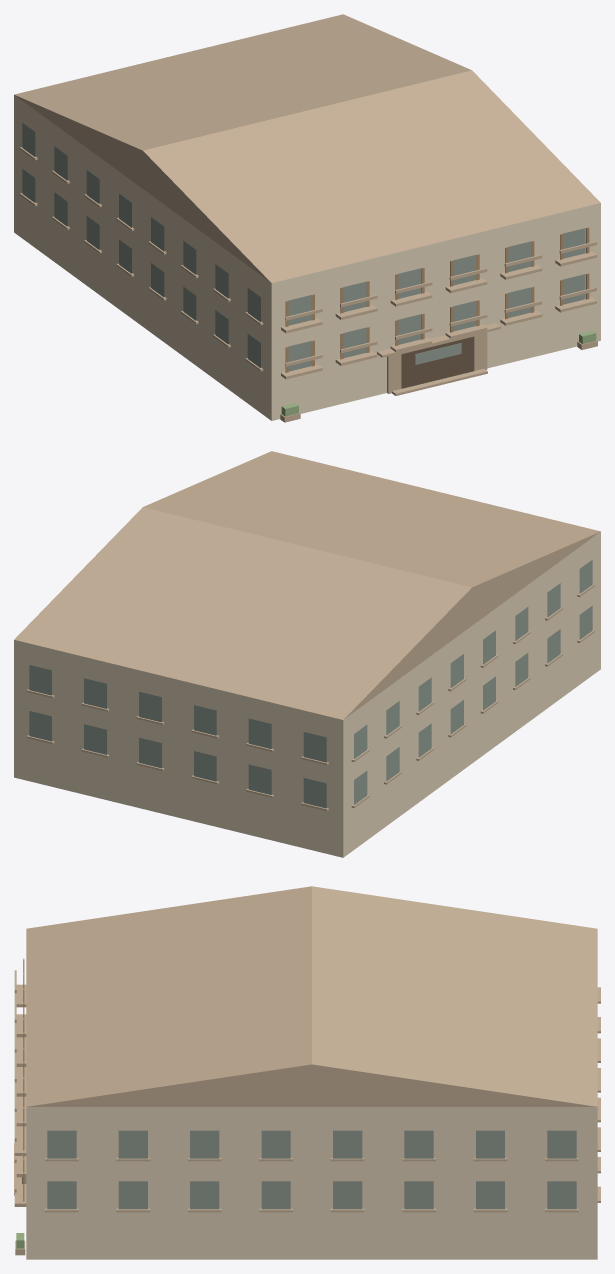
File: residential_3x4_a.glb
3 renders of one model, top to bottom at view 1: azimuth 30°, elevation 25°; view 2: azimuth 150°, elevation 25°; view 3: azimuth 270°, elevation 25°, orthographic. The views are drawn at different scales.
Parts seen in each view (by area): view 1: residential_3x4_a_0; view 2: residential_3x4_a_0; view 3: residential_3x4_a_0.
Part boxes in pixels (x1=…): residential_3x4_a_0: x1=14, y1=14, x2=600, y2=422; residential_3x4_a_0: x1=14, y1=451, x2=600, y2=857; residential_3x4_a_0: x1=14, y1=886, x2=600, y2=1259.
Size of the model in its own units: 22.86 by 11.5 by 31.33.
